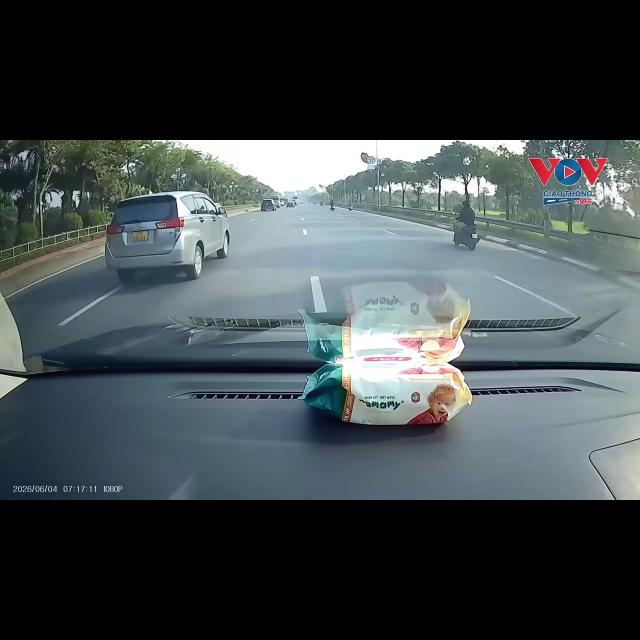car: (105, 192, 229, 282), (261, 199, 276, 210), (287, 202, 294, 207)
motorcycle: (454, 225, 480, 250), (348, 205, 352, 210), (331, 206, 334, 210)
